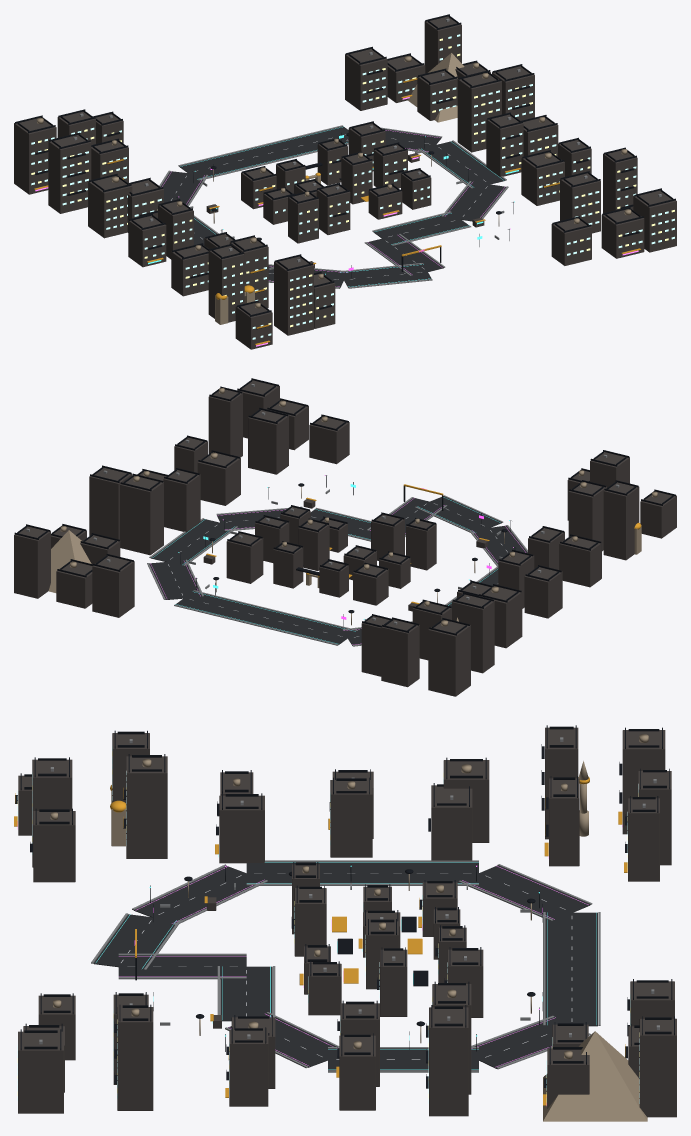
File: CairoNight_Environment_Master.fbx
3 renders of one model, top to bottom at view 1: azimuth 30°, elevation 25°; view 2: azimuth 150°, elevation 25°; view 3: azimuth 270°, elevation 25°, orthographic. The views are drawn at different scales.
Visible parts, largest first — view 1: Building_005, Building_007, Building_022, Road_05, Building_006, Building_017, Building_004, Building_001, Building_021, Building_025, Building_026, Building_020 (+39 smaller); view 2: Building_022, Building_006, Road_05, Building_001, Building_031, Building_013, Building_019, Building_017, Building_005, Building_026, Building_029, Building_021 (+37 smaller); view 3: Road_05, Landmark_Pyramid, Building_029, Building_008, Road_07, Building_026, Building_025, Building_031, Building_010, Building_009, Building_027, Building_014 (+44 smaller).
Part boxes in pixels (x1,y1,x2,y2): Building_005: (48, 132, 91, 213); Building_007: (274, 254, 313, 335); Building_022: (457, 70, 501, 152); Road_05: (179, 126, 348, 179); Building_006: (14, 115, 56, 194); Building_017: (345, 46, 387, 110); Building_004: (88, 173, 132, 238); Building_001: (208, 244, 244, 322); Building_021: (486, 112, 523, 176); Building_025: (633, 188, 676, 252); Building_026: (603, 147, 637, 213); Building_020: (521, 150, 564, 205); Building_022: (120, 473, 163, 555); Building_006: (428, 617, 470, 696); Road_05: (175, 591, 356, 644); Building_001: (603, 480, 639, 560); Building_031: (14, 524, 50, 598); Building_013: (381, 617, 419, 687); Building_019: (248, 407, 288, 474); Building_017: (92, 554, 134, 617); Building_005: (452, 592, 494, 673); Building_026: (208, 386, 242, 457); Building_029: (89, 465, 132, 539); Building_021: (163, 468, 200, 532); Road_05: (545, 912, 597, 1026); Landmark_Pyramid: (543, 1031, 647, 1121); Building_029: (426, 1005, 468, 1116); Building_008: (123, 754, 167, 858); Road_07: (246, 862, 478, 883); Building_026: (114, 1004, 153, 1110); Building_025: (17, 1029, 63, 1113); Building_031: (639, 1016, 676, 1117); Building_010: (330, 777, 372, 857); Building_009: (215, 793, 264, 863); Building_027: (225, 1027, 268, 1106); Building_014: (30, 808, 75, 882).
Size of the model in its own units: 125 by 18.4 by 114.
